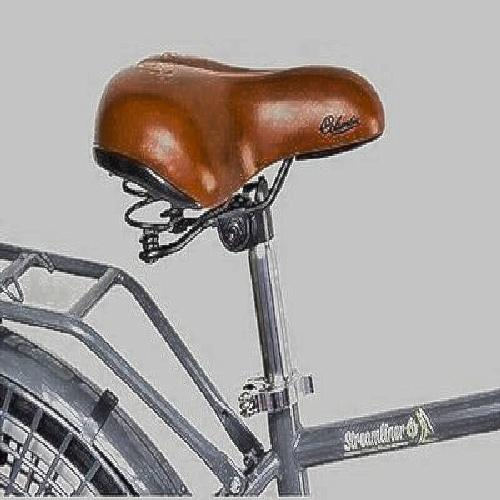bicycle: (36, 60, 455, 457)
